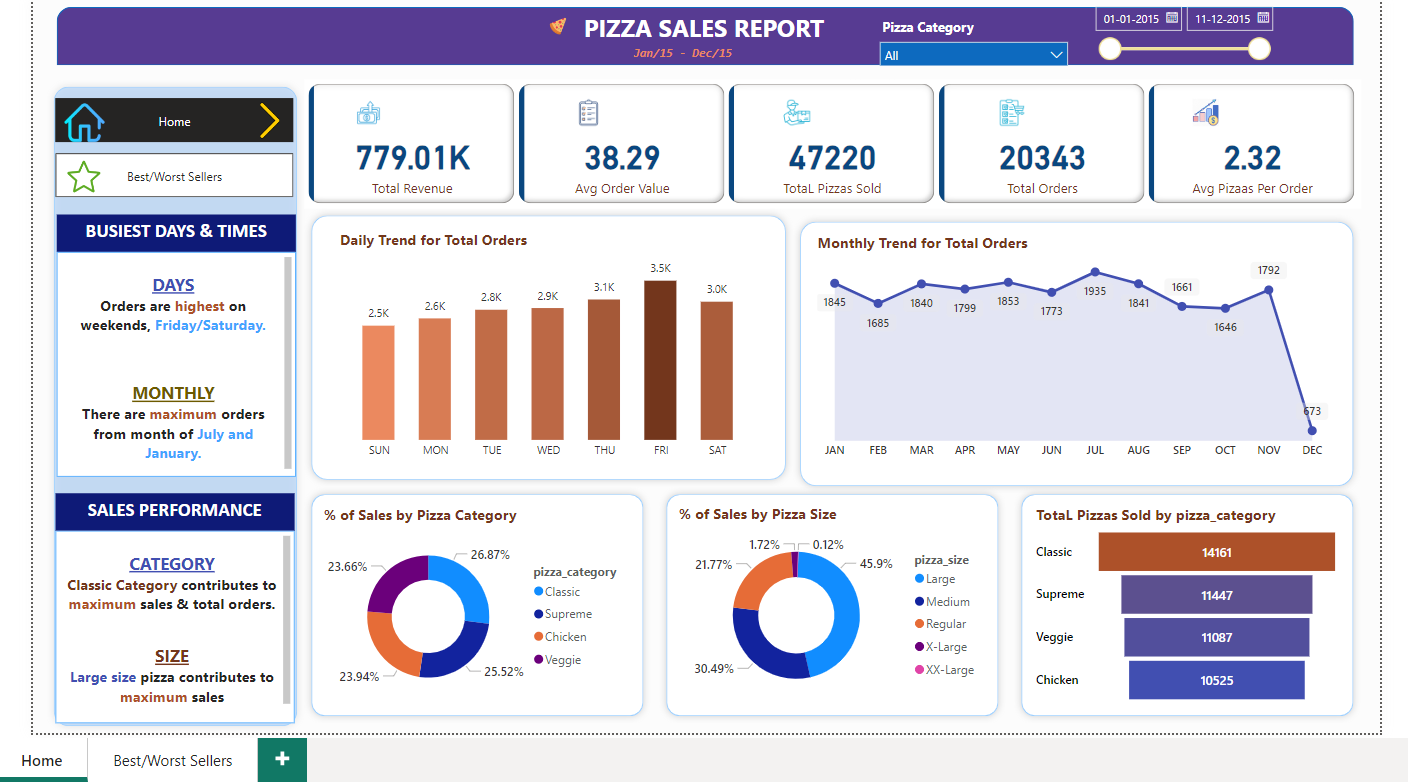

This screenshot's page, from the dashboard's own definition file:
{"tool":"powerbi","page":{"name":"Home","canvas":[1500,820],"ordinal":0},"visuals":[{"type":"shape","box":[15.3,91.9,286.9,728.4],"z":0},{"type":"cardVisual","fields":{"Data":["pizza_sales.Total Revenue","pizza_sales.Avg Order Value","pizza_sales.TotaL Pizzas Sold","pizza_sales.Total Orders","pizza_sales.Avg Pizaas Per Order"]},"box":[302.5,91.2,1177.5,143.8],"z":1000},{"type":"shape","box":[26.2,11.2,1445,65],"z":2000},{"type":"textbox","box":[605,11.2,286.2,48.8],"z":3000},{"type":"textbox","box":[657.5,47.5,132.5,28.8],"z":4000},{"type":"image","box":[563.8,18.8,41.2,28.8],"z":5000},{"type":"shape","box":[302.2,235.4,544.5,310.6],"z":6000},{"type":"shape","box":[846.7,242.3,632.3,310.6],"z":7000},{"type":"columnChart","title":"Daily Trend for Total Orders","fields":{"Category":["pizza_sales.Order Day"],"Y":["pizza_sales.Total Orders"]},"box":[337,259,474.9,264.6],"z":8000},{"type":"areaChart","title":"Monthly Trend for Total Orders","fields":{"Y":["pizza_sales.Total Orders"],"Category":["pizza_sales.Order Month"]},"box":[869,261.8,580.7,261.8],"z":9000},{"type":"shape","box":[302.2,545.9,385.8,263.2],"z":10000},{"type":"shape","box":[697.7,545.9,385.8,263.2],"z":11000},{"type":"shape","box":[1093.2,545.9,385.8,263.2],"z":12000},{"type":"donutChart","title":"% of Sales by Pizza Category","fields":{"Y":["pizza_sales.Total Revenue"],"Category":["pizza_sales.pizza_category"]},"box":[318.9,565.4,352.3,228.4],"z":13000},{"type":"donutChart","title":"% of Sales by Pizza Size","fields":{"Y":["pizza_sales.Total Revenue"],"Category":["pizza_sales.pizza_size"]},"box":[714.4,564,352.3,228.4],"z":14000},{"type":"funnel","fields":{"Category":["pizza_sales.pizza_category"],"Y":["pizza_sales.TotaL Pizzas Sold"]},"box":[1112.7,565.4,348.2,227],"z":15000},{"type":"textbox","box":[26.5,242.3,266,41.8],"z":16000},{"type":"textbox","box":[26.5,284.1,266,250.7],"z":17000},{"type":"textbox","box":[25.1,594.7,266,214.5],"z":18000},{"type":"textbox","box":[25.1,552.9,266,41.8],"z":19000},{"type":"slicer","fields":{"Values":["pizza_sales.pizza_category"]},"box":[933.1,18.1,229.8,58.5],"z":20000},{"type":"slicer","fields":{"Values":["pizza_sales.order_date"]},"box":[1171.2,0,225.6,79.4],"z":21000},{"type":"pageNavigator","box":[25.7,112.6,265.3,49.9],"z":22000},{"type":"pageNavigator","box":[25.7,173.7,265.3,49.9],"z":23000},{"type":"image","box":[236.4,112.6,54.7,49.9],"z":24000},{"type":"image","box":[27.3,112.6,59.5,54.7],"z":25000},{"type":"image","box":[33.8,176.9,46.6,46.6],"z":26000}]}

Visuals, with their boxes on the page's 1500x820 design canvas (x1, y1, x2, y2). These are canvas units, not pixel positions in the 1408x782 screenshot, which may show the page scaled, cropped or inside an application window:
shape: [left=15, top=92, right=302, bottom=820]
cardVisual - pizza_sales.Total Revenue x pizza_sales.Avg Order Value: [left=302, top=91, right=1480, bottom=235]
shape: [left=26, top=11, right=1471, bottom=76]
textbox: [left=605, top=11, right=891, bottom=60]
textbox: [left=658, top=48, right=790, bottom=76]
image: [left=564, top=19, right=605, bottom=48]
shape: [left=302, top=235, right=847, bottom=546]
shape: [left=847, top=242, right=1479, bottom=553]
"Daily Trend for Total Orders" columnChart: [left=337, top=259, right=812, bottom=524]
"Monthly Trend for Total Orders" areaChart: [left=869, top=262, right=1450, bottom=524]
shape: [left=302, top=546, right=688, bottom=809]
shape: [left=698, top=546, right=1084, bottom=809]
shape: [left=1093, top=546, right=1479, bottom=809]
"% of Sales by Pizza Category" donutChart: [left=319, top=565, right=671, bottom=794]
"% of Sales by Pizza Size" donutChart: [left=714, top=564, right=1067, bottom=792]
funnel - pizza_sales.pizza_category x pizza_sales.TotaL Pizzas Sold: [left=1113, top=565, right=1461, bottom=792]
textbox: [left=26, top=242, right=292, bottom=284]
textbox: [left=26, top=284, right=292, bottom=535]
textbox: [left=25, top=595, right=291, bottom=809]
textbox: [left=25, top=553, right=291, bottom=595]
slicer - pizza_sales.pizza_category: [left=933, top=18, right=1163, bottom=77]
slicer - pizza_sales.order_date: [left=1171, top=0, right=1397, bottom=79]
pageNavigator: [left=26, top=113, right=291, bottom=162]
pageNavigator: [left=26, top=174, right=291, bottom=224]
image: [left=236, top=113, right=291, bottom=162]
image: [left=27, top=113, right=87, bottom=167]
image: [left=34, top=177, right=80, bottom=224]
